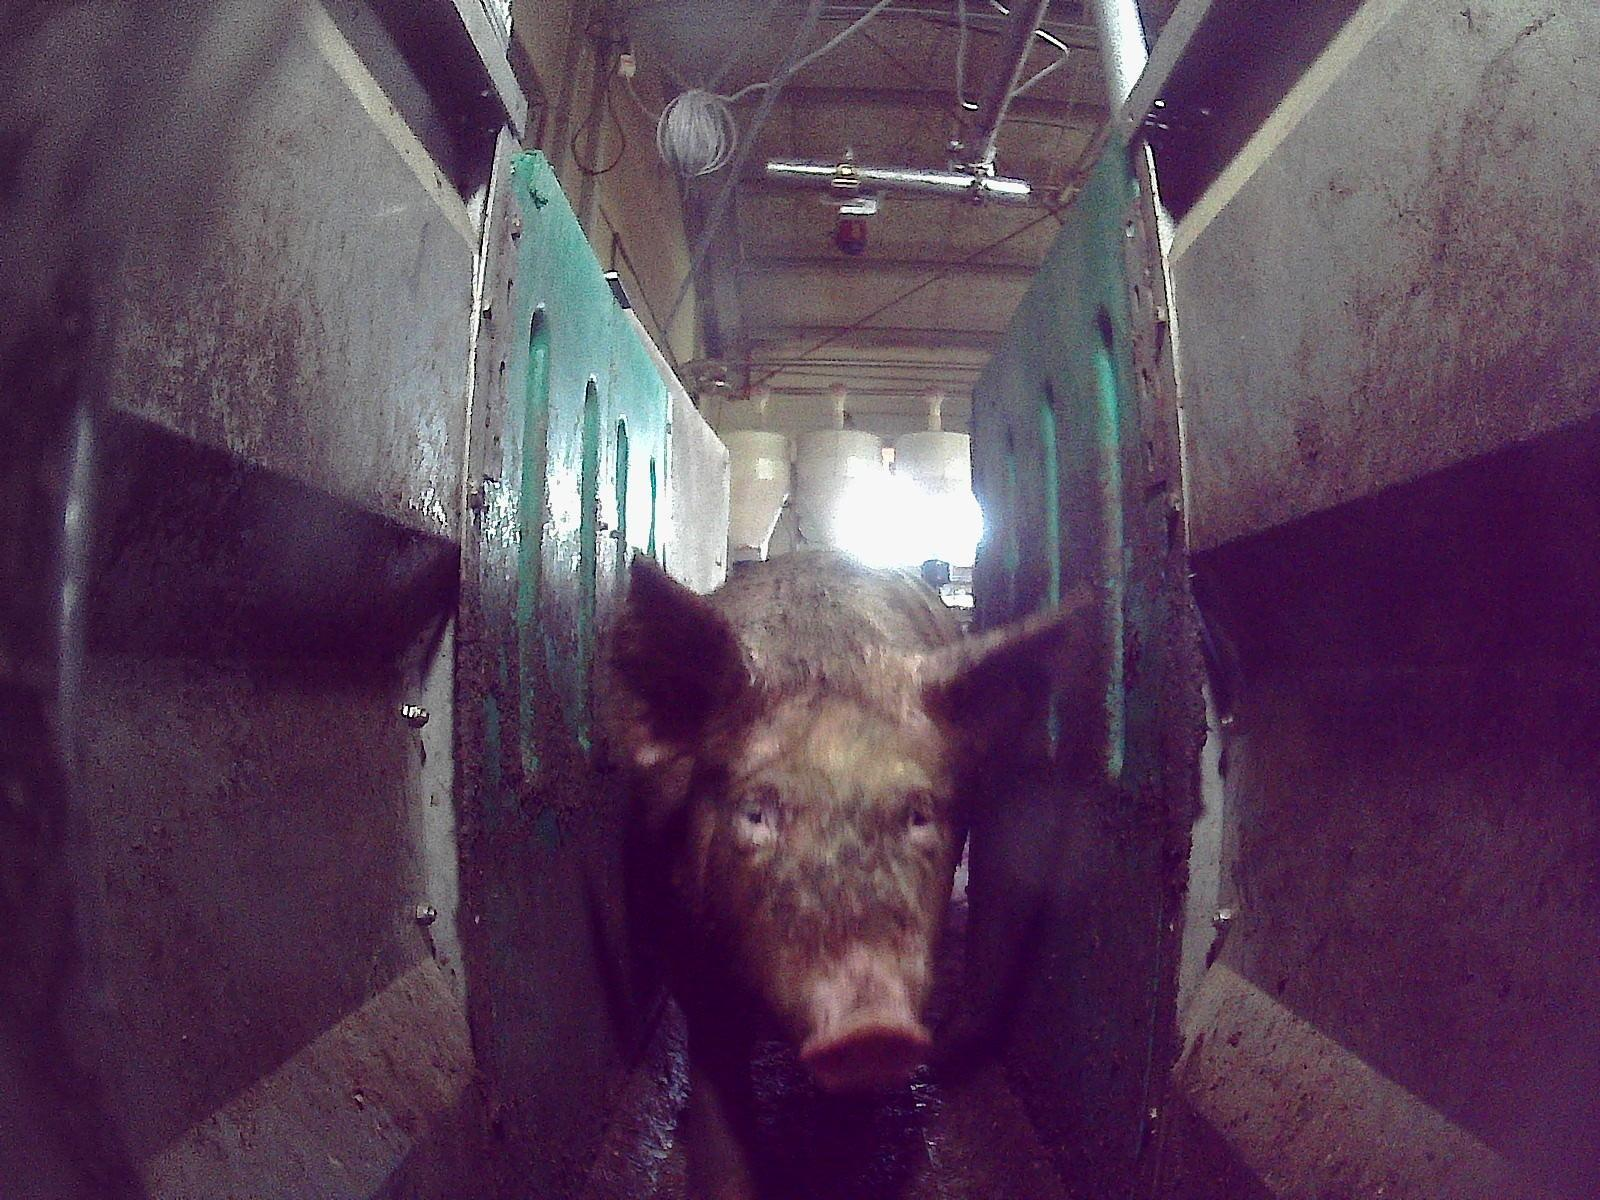Face: (704, 681, 948, 1088)
